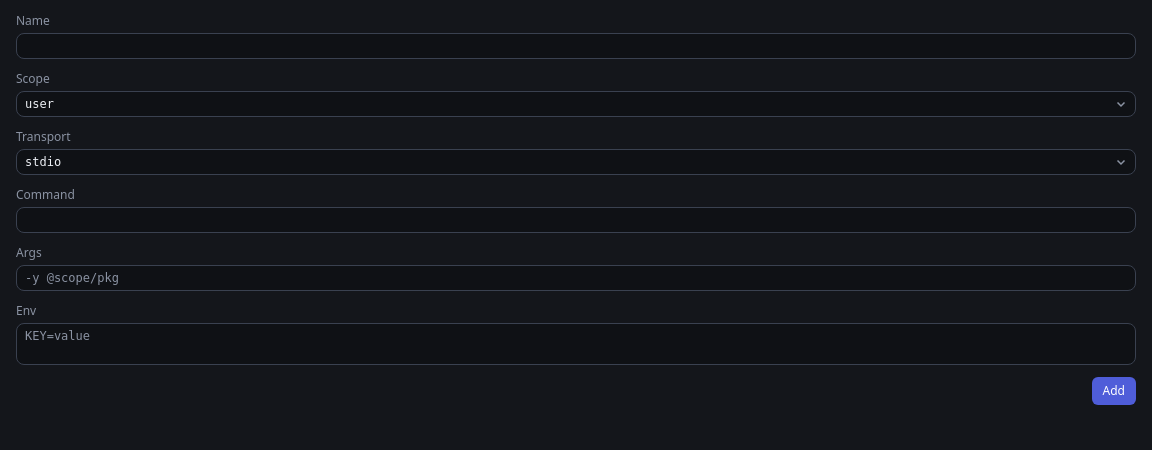
Test: McpServerForm › blocks submit and shows a hint when a required field is empty
Step 1. Type "pw" into the field labelled "Name" → (576, 46), box [16, 33, 1136, 59]
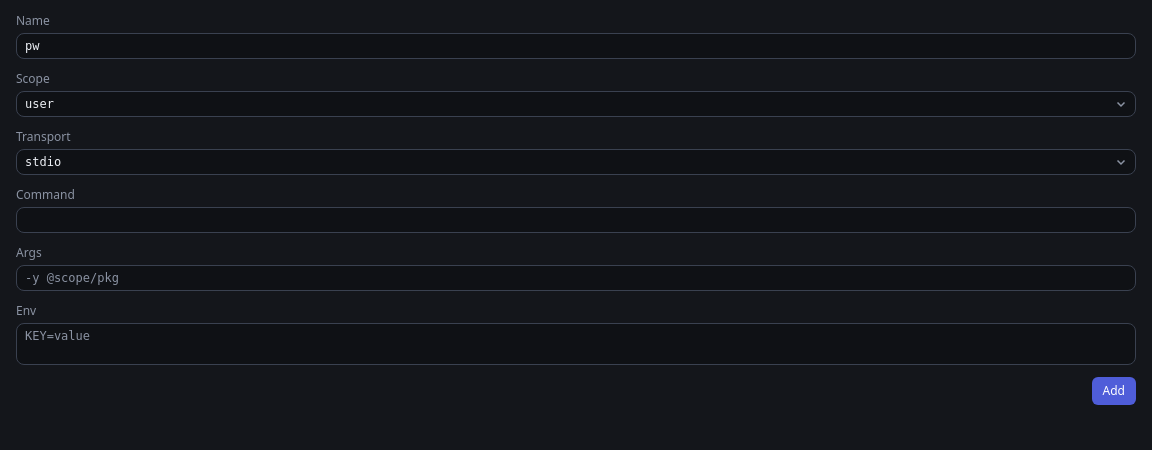
command left blank
Step 2. Click the button "Add" → (1114, 391), box [1092, 377, 1136, 405]
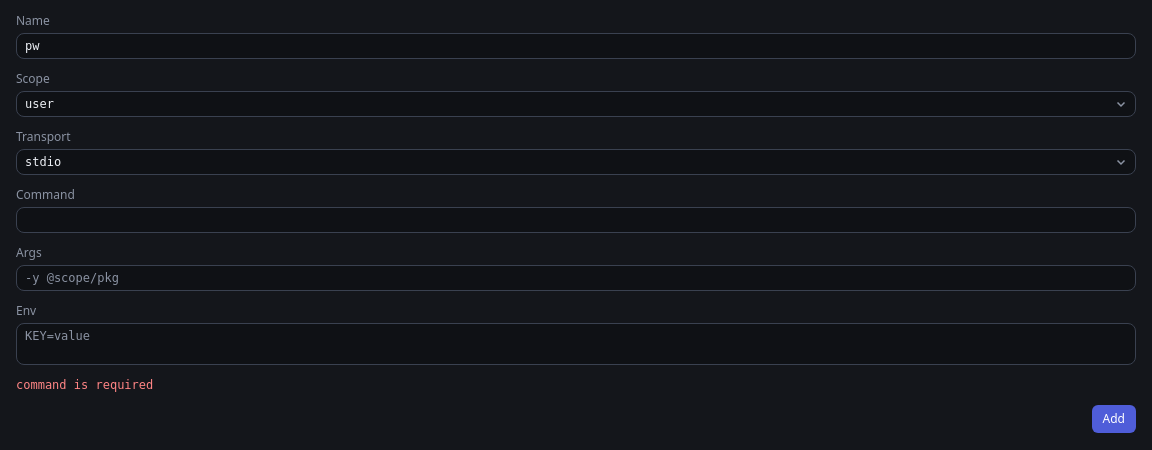
expect the message "command is required" is shown: met, box [16, 378, 153, 392]
